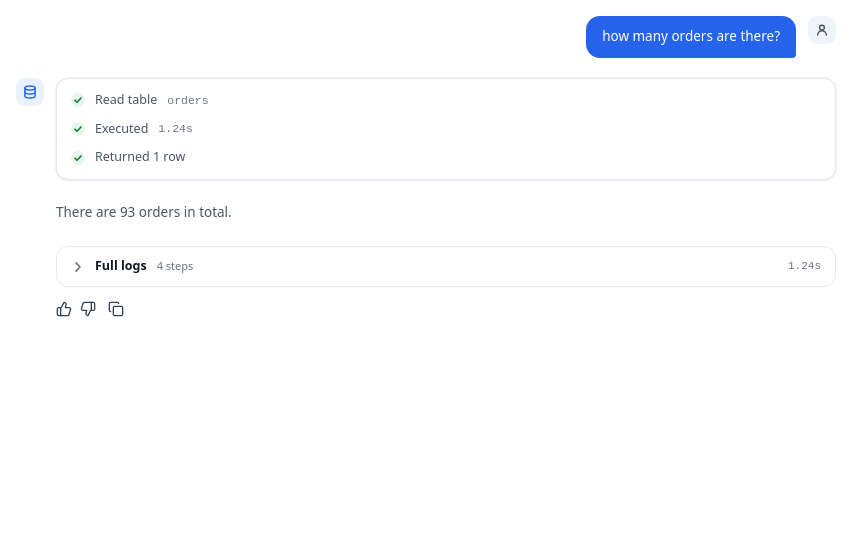
Test case: Thread › names no database or table when the agent shows no sources
The image size is (854, 535).
Click the button "Full logs 4 steps 1.24s" at (121, 266), box [57,247,835,286]
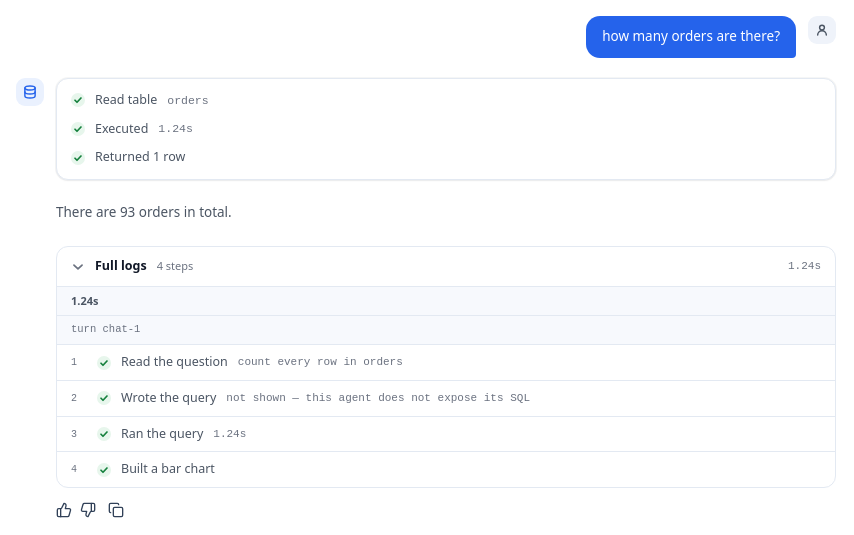
Expected: the text "Read the question" is shown, [121,353,228,372]
